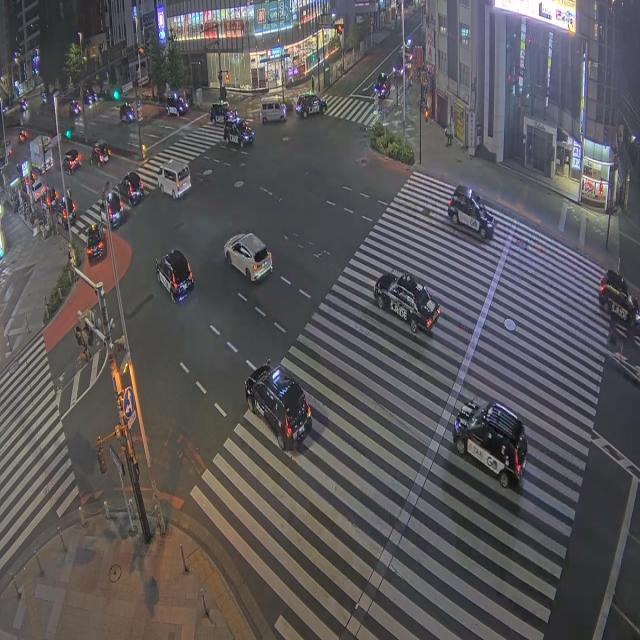car: (453, 400, 527, 487), (245, 361, 311, 450), (374, 273, 440, 334), (448, 185, 493, 239), (224, 233, 272, 281), (599, 270, 639, 324), (156, 249, 193, 302), (223, 118, 254, 147), (119, 172, 144, 205), (101, 191, 123, 228), (295, 92, 327, 117), (393, 38, 413, 75), (86, 224, 105, 261), (210, 101, 238, 124), (55, 197, 75, 225), (90, 140, 110, 166), (63, 149, 81, 175), (166, 95, 187, 116), (374, 73, 388, 98), (46, 183, 58, 207), (120, 104, 135, 122), (83, 88, 97, 106), (33, 182, 46, 201), (69, 100, 81, 117), (20, 99, 28, 112)
motorcycle: (19, 130, 28, 143)
van: (158, 160, 190, 199), (261, 97, 286, 123)
